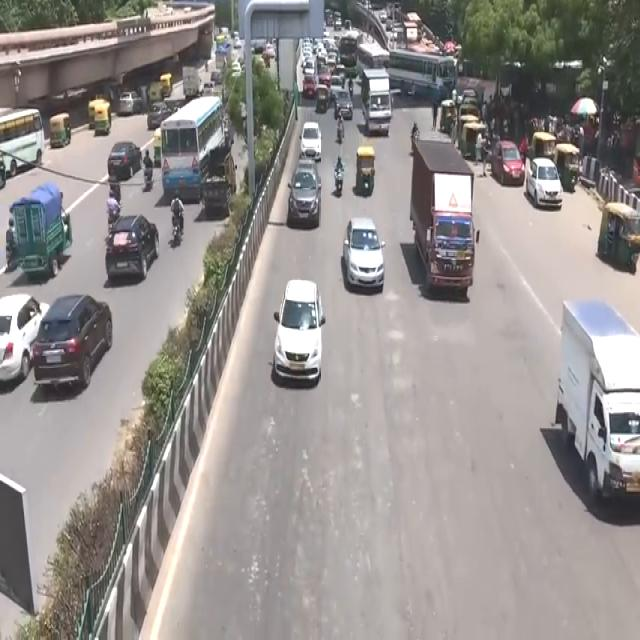BUS: (161, 98, 232, 209), (390, 46, 457, 100)
MOTORCYCLE: (336, 169, 346, 198)
TRUCK: (562, 304, 639, 512), (410, 136, 478, 298), (361, 73, 392, 140)
